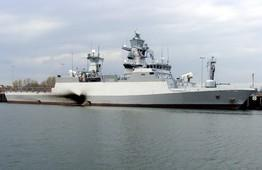warship: (3, 28, 254, 105)
